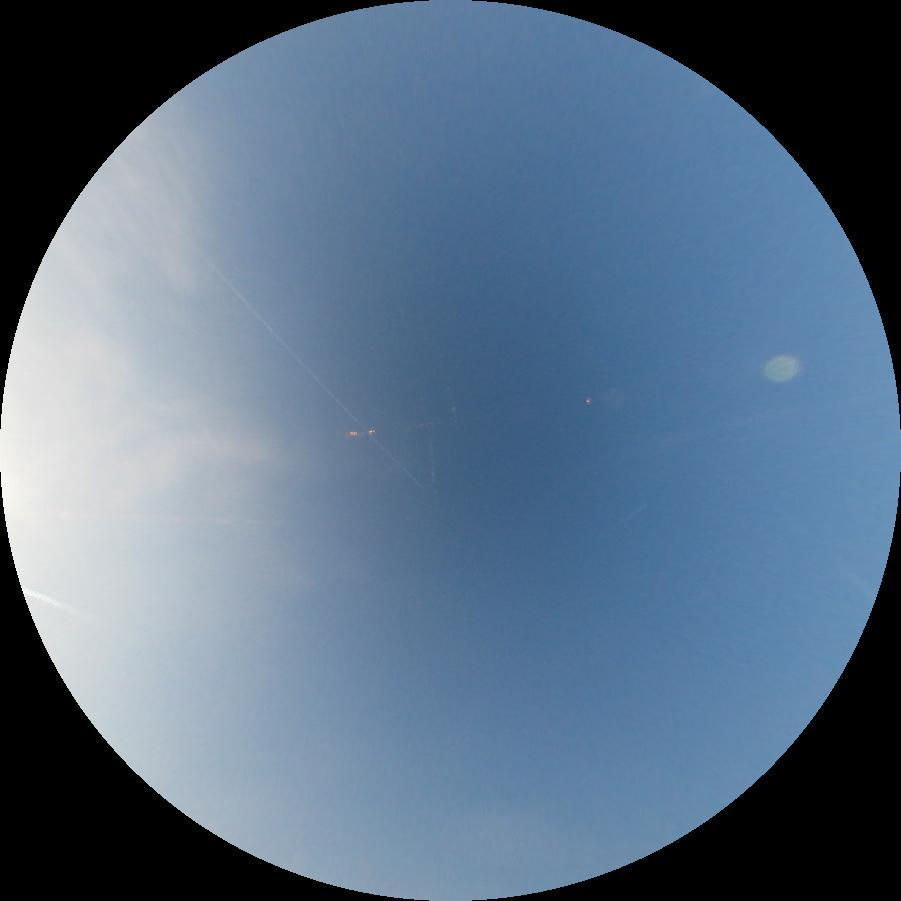contrail old: (198, 253, 422, 489)
contrail young: (18, 585, 88, 621)
parasite: (29, 510, 305, 527)
